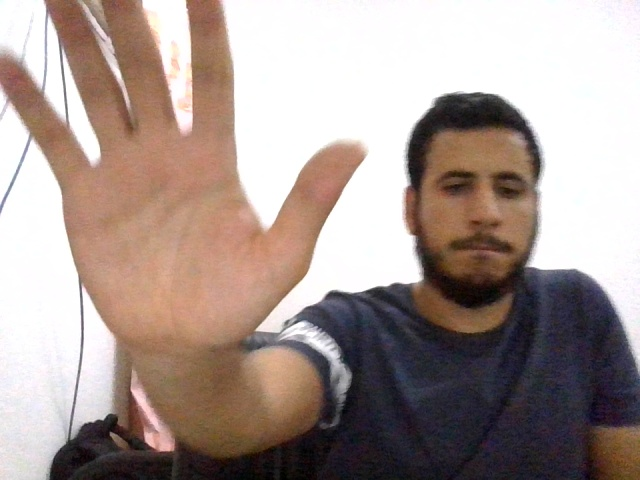Five: (1, 1, 369, 358)
